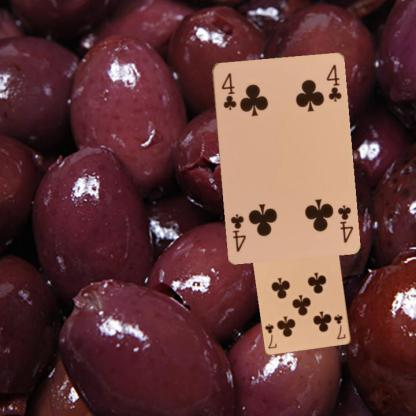4c: (335, 202, 354, 244), (219, 70, 238, 111)
7c: (332, 312, 346, 340)
